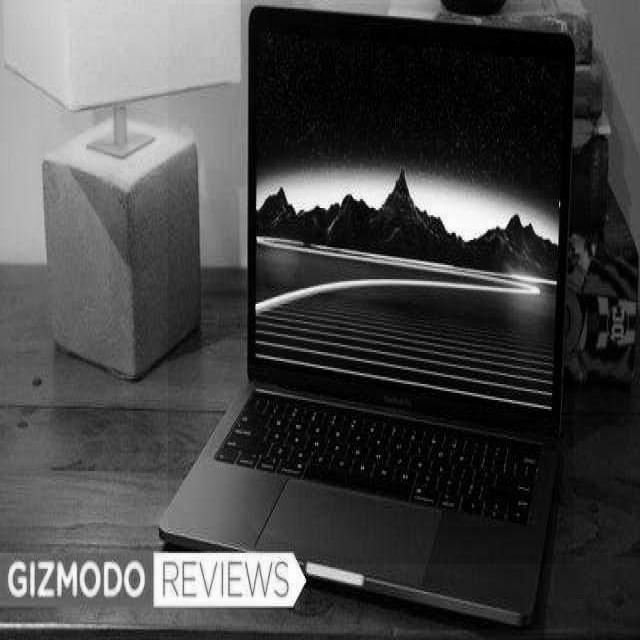-keyboard-: (168, 4, 574, 564)
